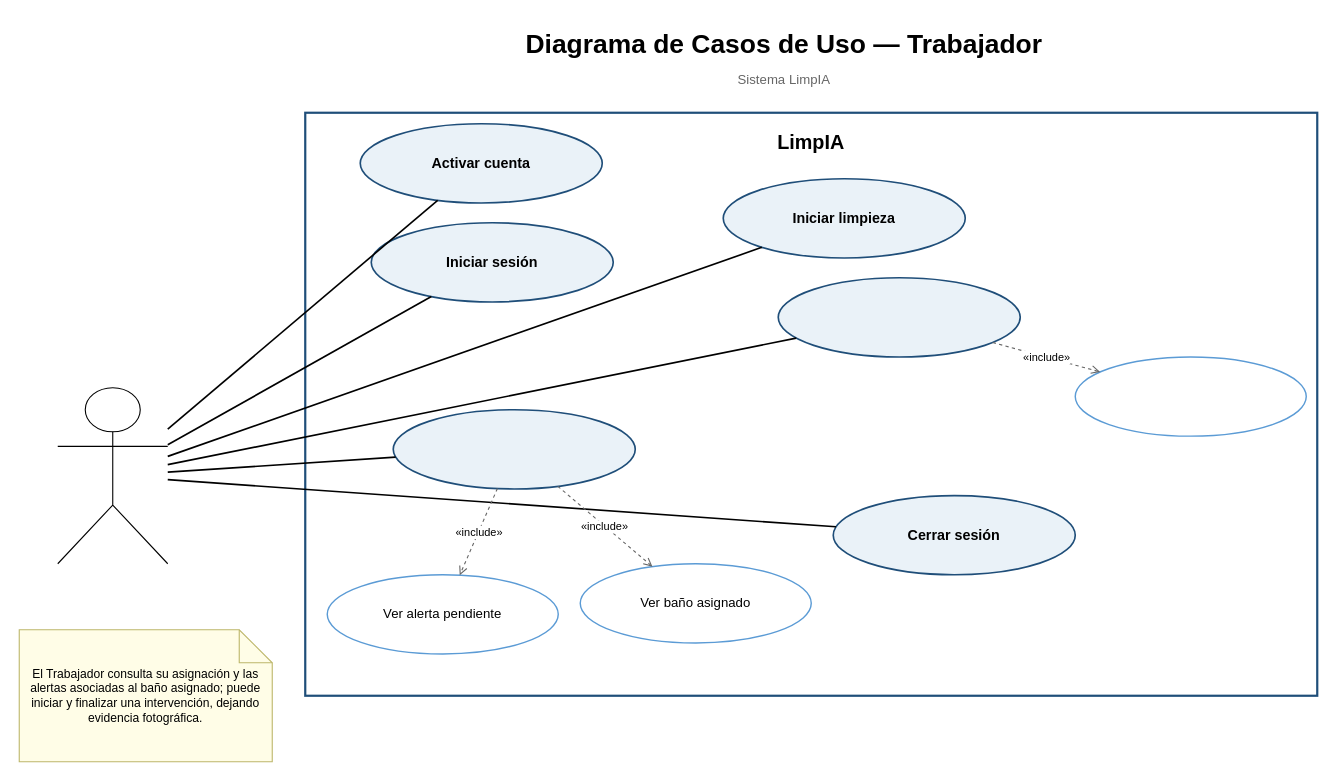
Image size: 1338x781. Some labels were removed from this diagram. Each missing label, with the centre of its shape:
Adjuntar evidencia fotográfica: the point at 1190,396
Consultar panel de trabajo: the point at 514,448
Finalizar limpieza: the point at 899,316
Trabajador: the point at 112,475
